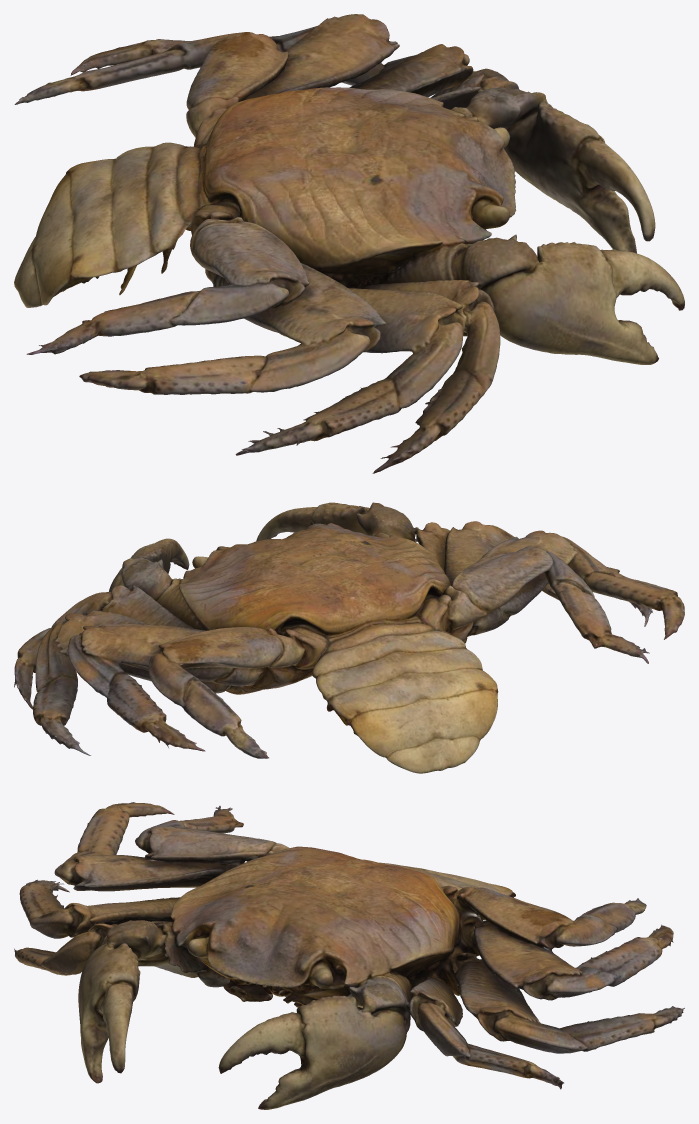
3 views of the same model, one above another, from view 1: azimuth 30°, elevation 25°; view 2: azimuth 150°, elevation 25°; view 3: azimuth 270°, elevation 25° (orthographic). The views are drawn at different scales.
Visible parts, largest first — view 1: Grapsus_planifrons-unwrapped-webmulti; view 2: Grapsus_planifrons-unwrapped-webmulti; view 3: Grapsus_planifrons-unwrapped-webmulti.
Part boxes in pixels (box(x1,y1,x2,y2)): Grapsus_planifrons-unwrapped-webmulti: box(14, 14, 684, 473); Grapsus_planifrons-unwrapped-webmulti: box(14, 502, 684, 773); Grapsus_planifrons-unwrapped-webmulti: box(14, 802, 684, 1109).
Size of the model in its own units: 4371 by 1112 by 4915.
Materials: 1 (1 with a texture image).
